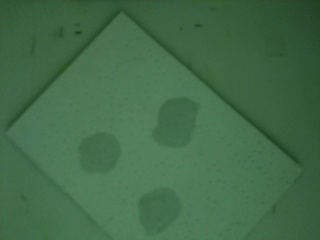Water_detected: (152, 109, 192, 143), (80, 146, 113, 168), (151, 198, 168, 214)
